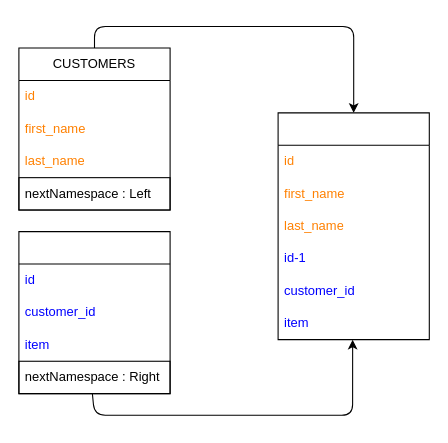
This 448x443 diagram has some shape labels left out. Each missing label, with the box of its shape:
CUSTOMER_ORDERS: (277, 112, 429, 340)
ORDERS: (18, 231, 170, 394)
